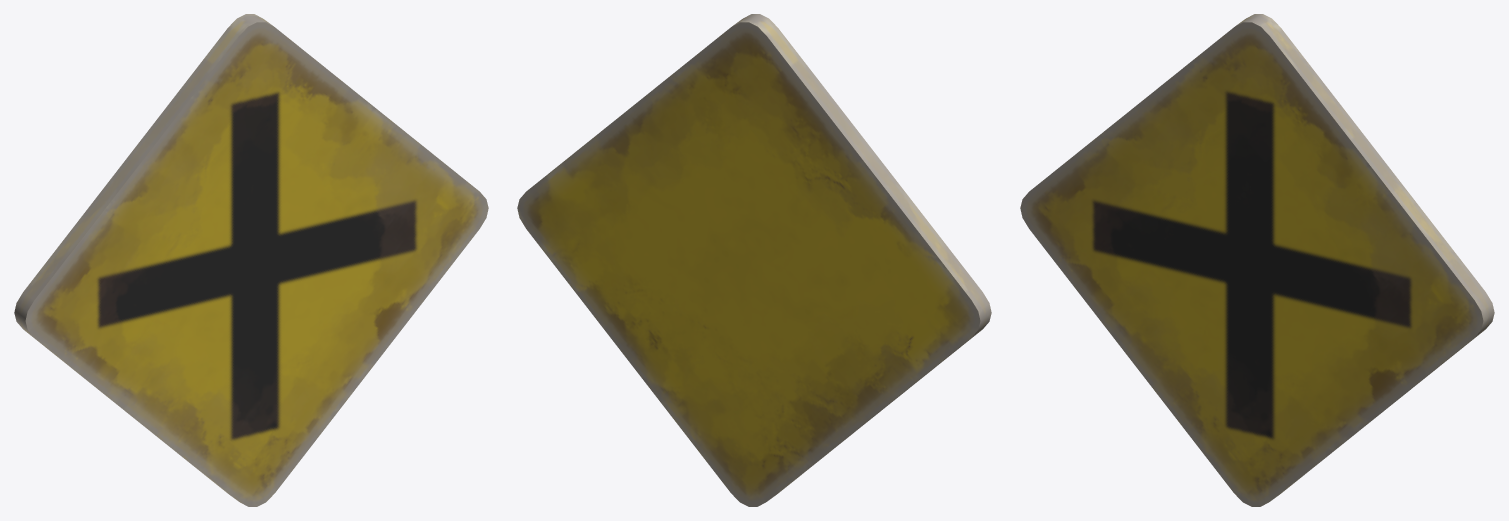
File: SM_roadsign_crossway.fbx
3 views of the same model, side by side, from view 1: azimuth 30°, elevation 25°; view 2: azimuth 150°, elevation 25°; view 3: azimuth 330°, elevation 25° (orthographic).
Parts seen in each view (by area): view 1: Box333; view 2: Box333; view 3: Box333.
Boxes of the visible parts, bbox=[...] form: Box333: bbox=[14, 14, 488, 506]; Box333: bbox=[517, 14, 991, 506]; Box333: bbox=[1020, 14, 1494, 506].
Bounding box in the file's own units: 22.96 × 22.96 × 0.9634.
